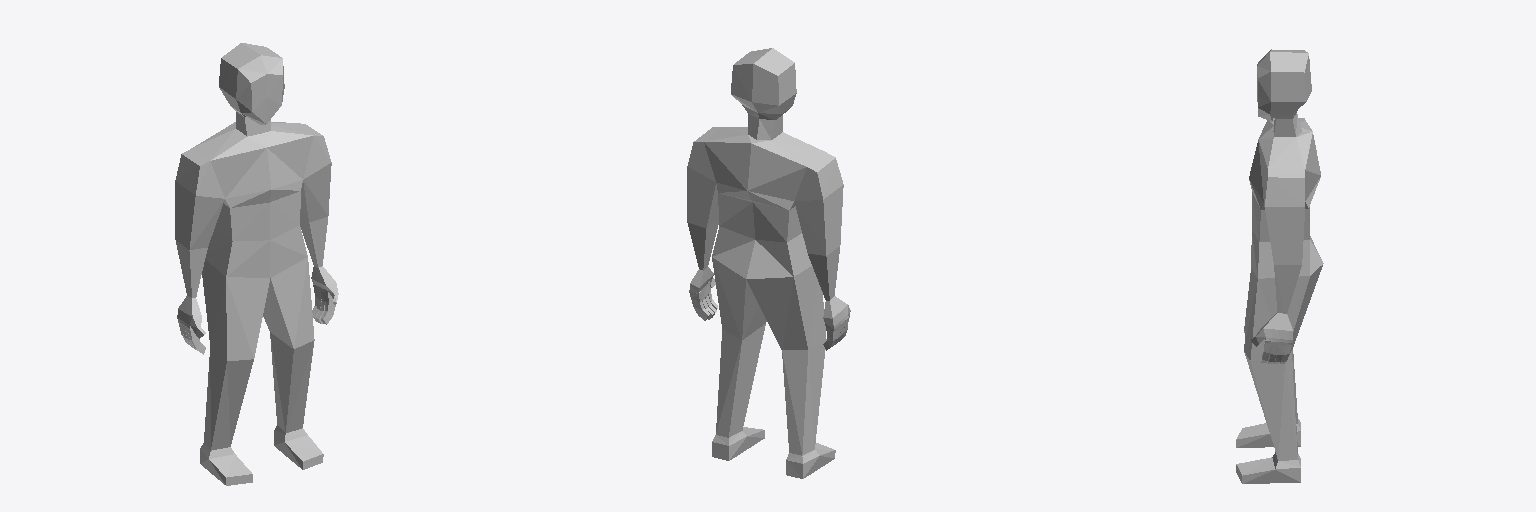
The model's file is basemodel.obj.
The picture shows the model from 3 angles: view 1: azimuth 30°, elevation 25°; view 2: azimuth 150°, elevation 25°; view 3: azimuth 270°, elevation 25°; orthographic projection.
Visible parts, largest first — view 1: Cube.001; view 2: Cube.001; view 3: Cube.001.
Part boxes in pixels (left/top/right/bottom): Cube.001: left=175, top=43, right=338, bottom=485; Cube.001: left=687, top=48, right=850, bottom=478; Cube.001: left=1236, top=49, right=1323, bottom=483.
Size of the model in its own units: 2.48 by 6.57 by 1.27.